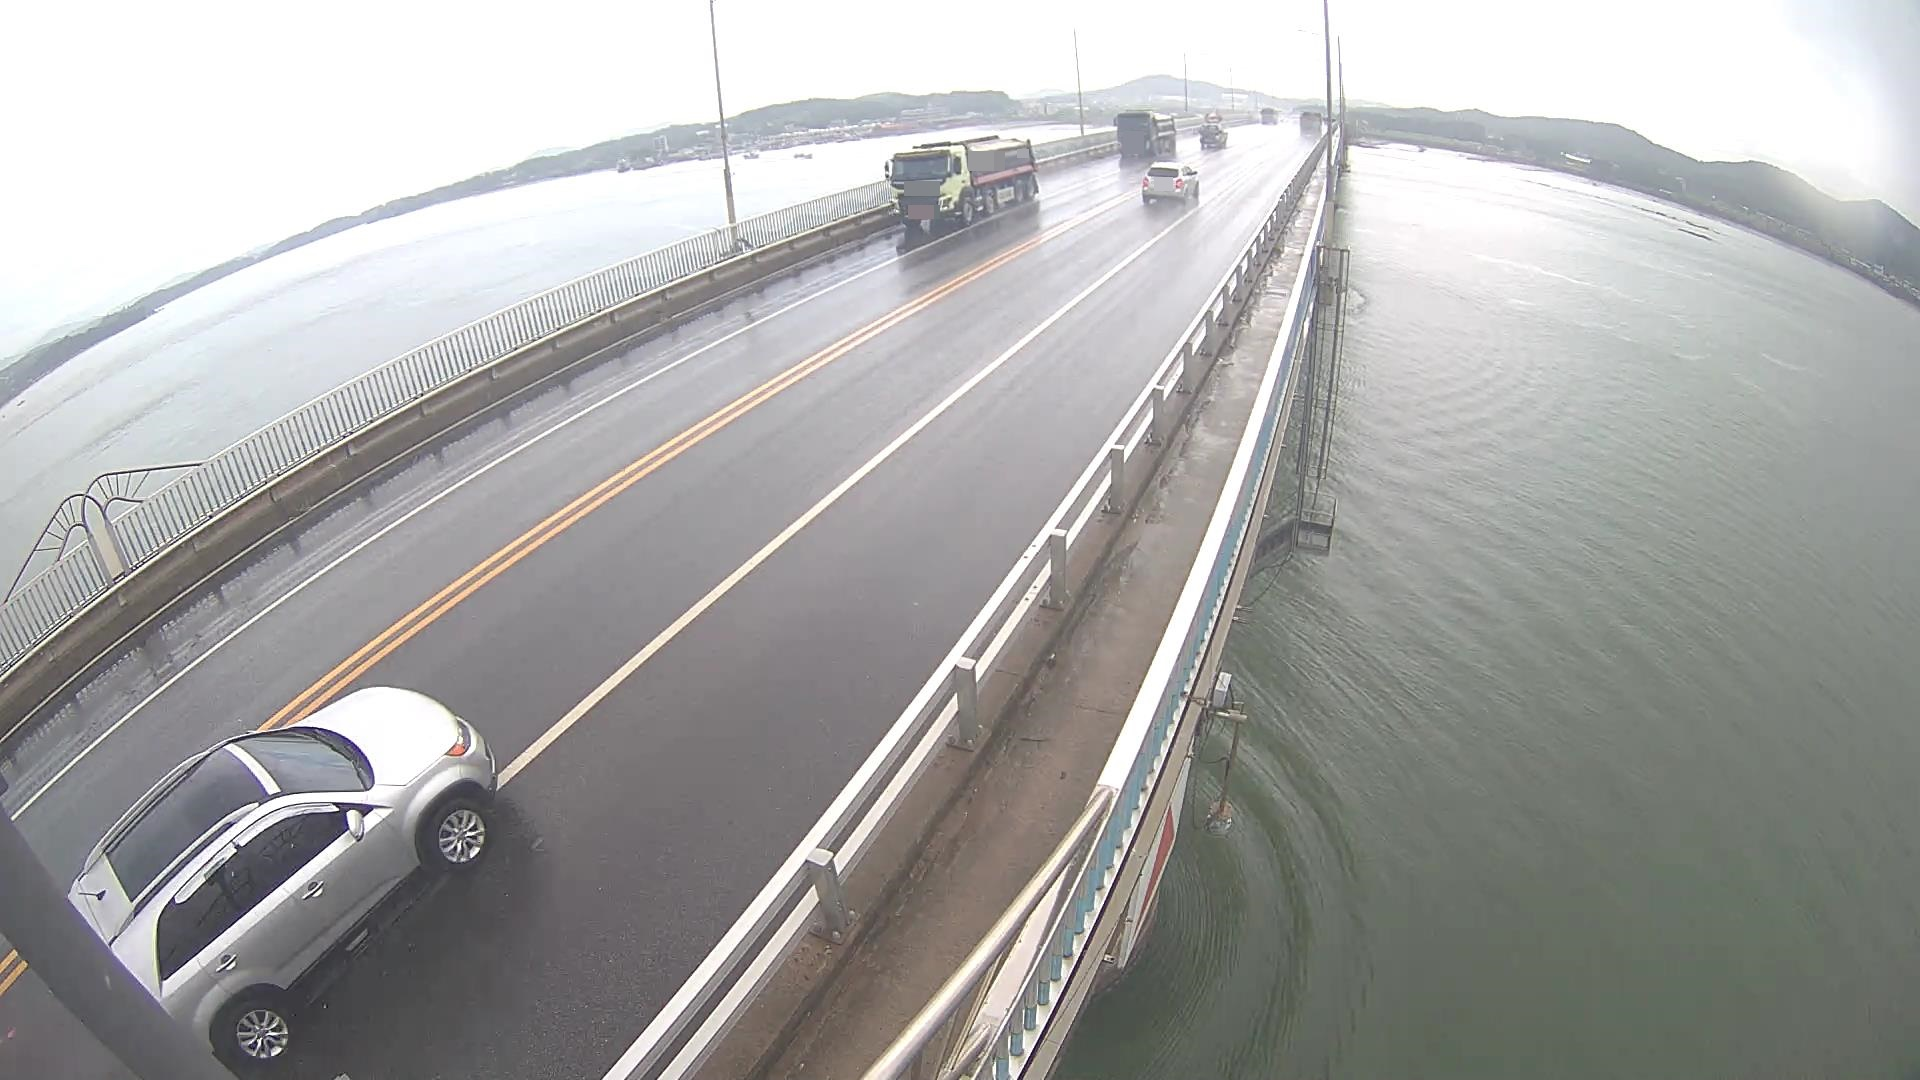정상차량: (885, 136, 1038, 225)
